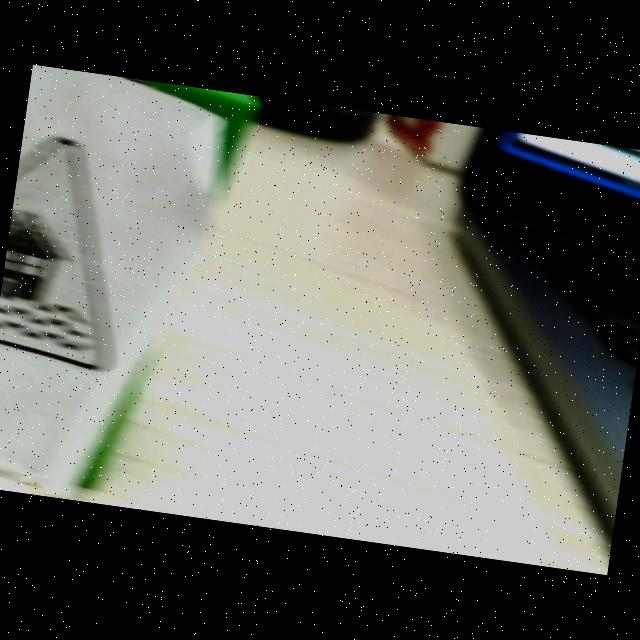Tsunami: (0, 137, 112, 371)
